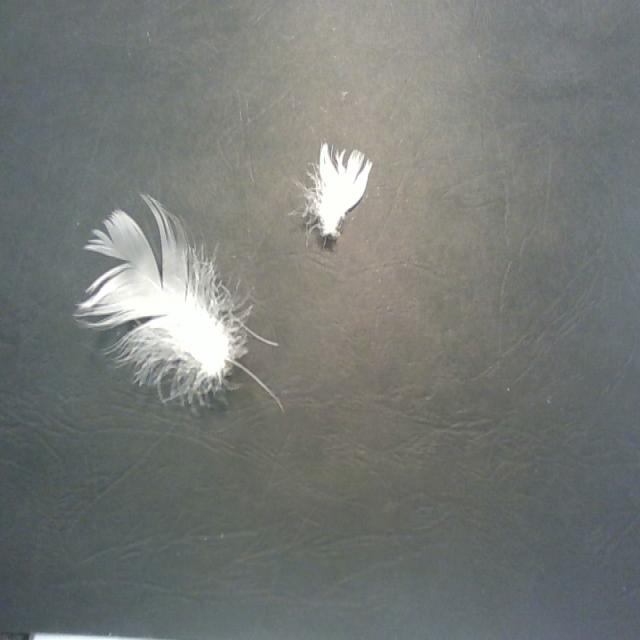feather: (78, 188, 243, 411), (294, 140, 374, 244)
